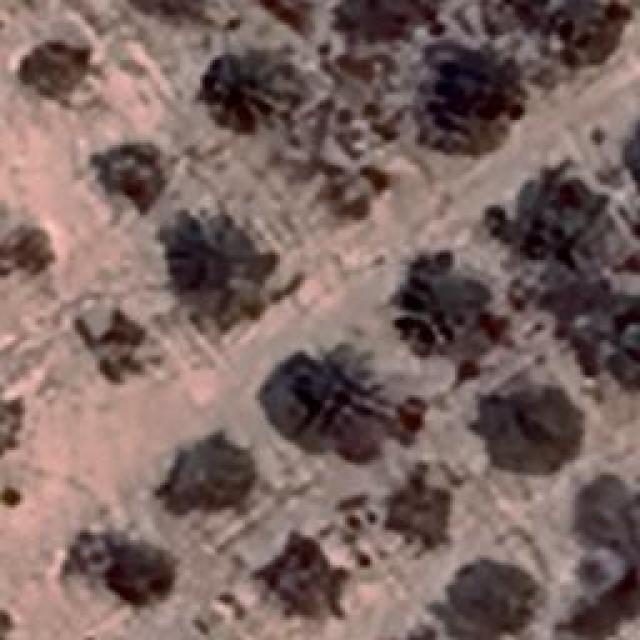PalmTree: (45, 26, 570, 84), (392, 250, 502, 362), (190, 32, 302, 132), (490, 378, 590, 472), (500, 180, 602, 262), (286, 350, 372, 440), (276, 535, 334, 635), (166, 434, 244, 508), (432, 62, 510, 132), (168, 215, 236, 293), (392, 474, 458, 538), (455, 565, 525, 625), (98, 138, 160, 202), (595, 304, 640, 372)
